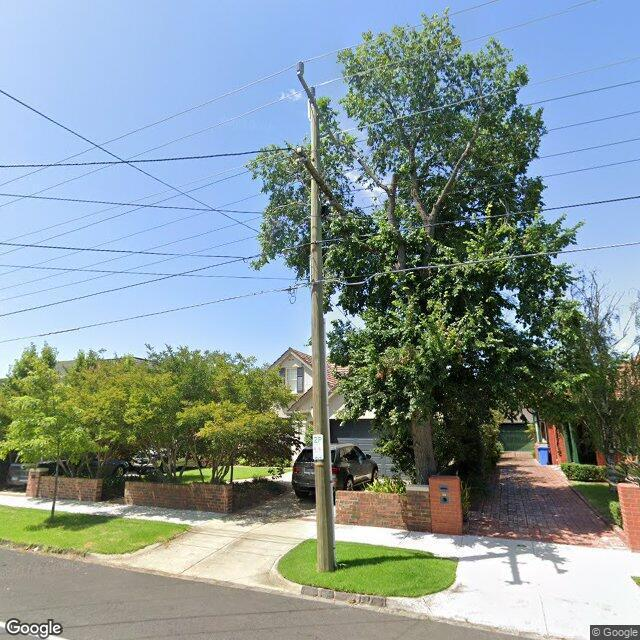HV-transmission: (297, 61, 339, 144)
crossarm: (297, 147, 346, 216), (296, 71, 338, 146)
timber-pole: (310, 102, 334, 572)
